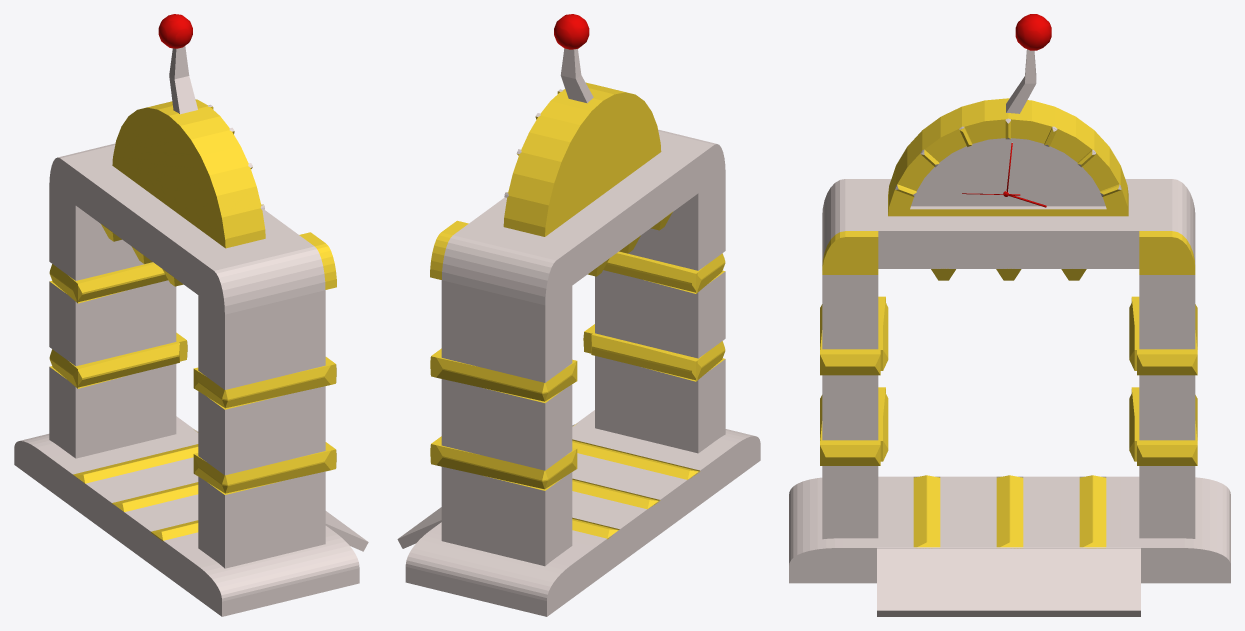
Rendered from timeMachine.fbx.
3 views of the same model, side by side, from view 1: azimuth 30°, elevation 25°; view 2: azimuth 150°, elevation 25°; view 3: azimuth 270°, elevation 25° (orthographic). The views are drawn at different scales.
Parts seen in each view (by area): view 1: Circle; view 2: Circle; view 3: Circle.
Part boxes in pixels (<box>): Circle: <box>14,14,368,616</box>; Circle: <box>397,14,760,616</box>; Circle: <box>789,14,1230,616</box>.
Size of the model in its own units: 273 by 709 by 524.
